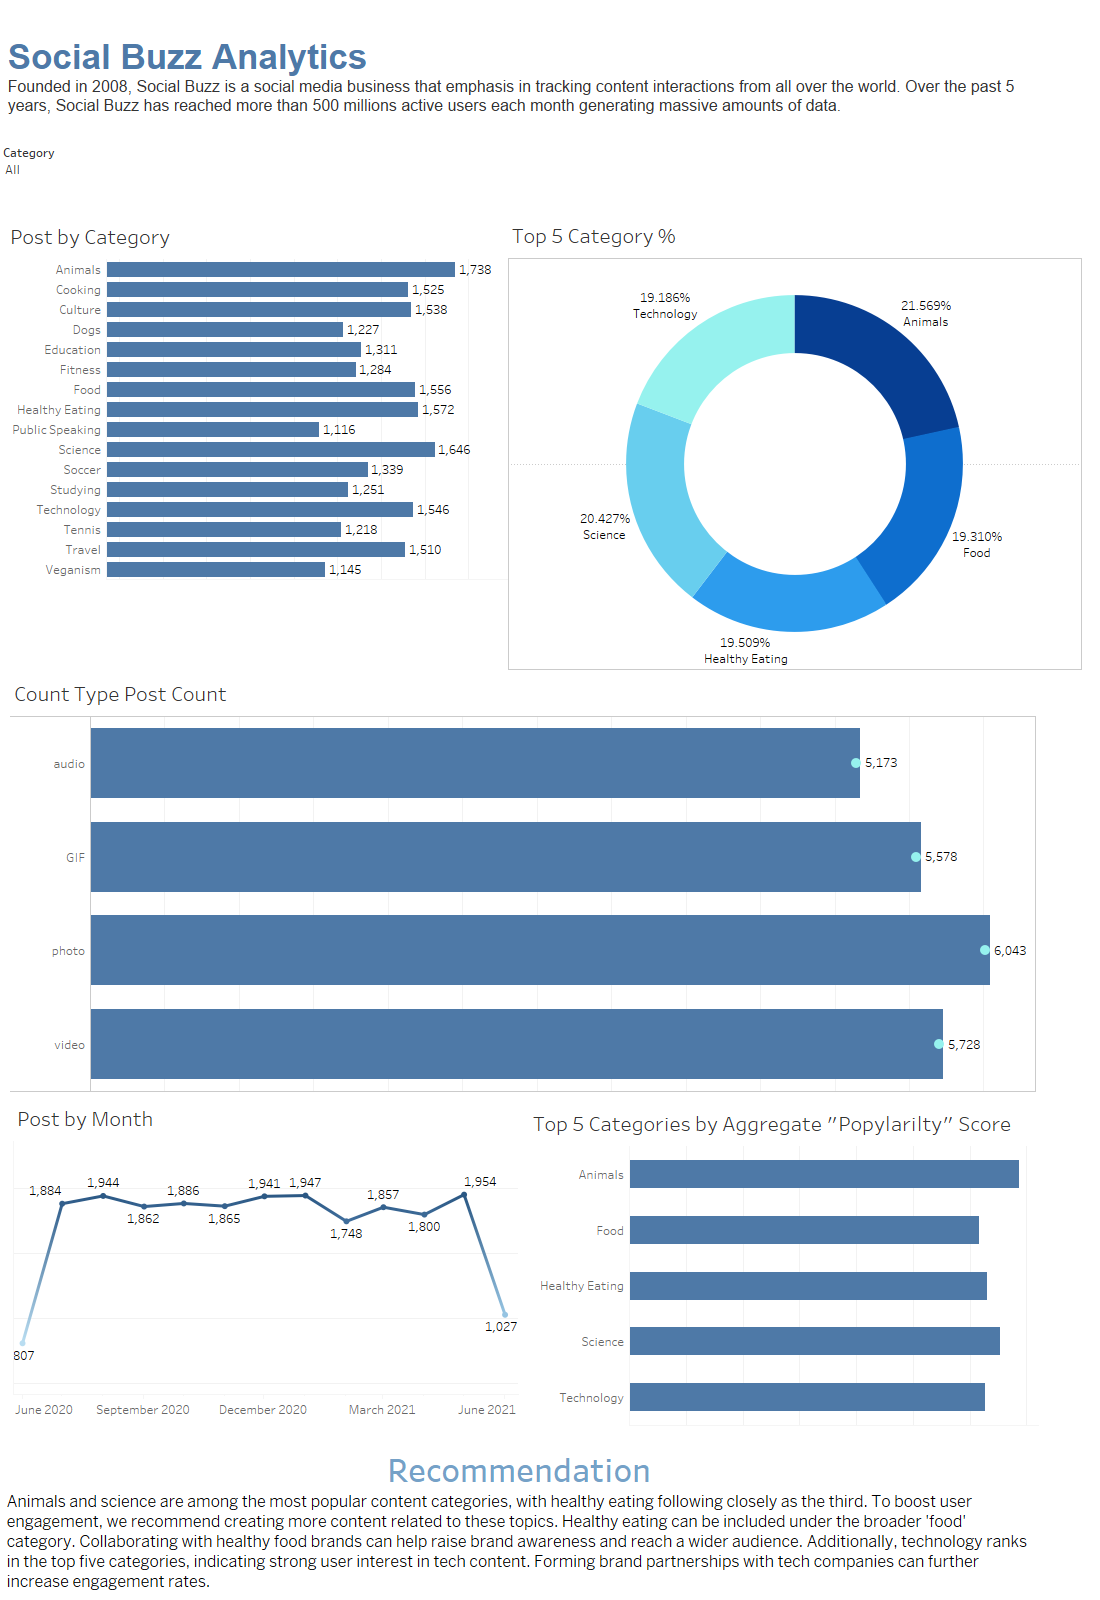

This screenshot's page, from the dashboard's own definition file:
{"tool":"tableau","page":{"name":"Dashboard 2","canvas":[1100,1600],"ordinal":1},"visuals":[{"type":"text","box":[5,17,1028,119]},{"type":"filter","title":"Category Count","param":"[federated.0mg221m0tzkn8z1gdag141mmxswe].[none:Category:nk]","box":[3,143,365,65]},{"type":"worksheet","title":"Top 5 Category %","mark":"Automatic","rows":["Calculation_826692050090352644","Calculation_826692050091368460"],"box":[508,215,574,455]},{"type":"worksheet","title":"Category Count","mark":"Automatic","rows":["Category"],"cols":["Calculation_826692050076528640"],"box":[6,216,502,452]},{"type":"worksheet","title":"Count Type Post Count","mark":"Bar","rows":["Content Type"],"cols":["Calculation_826692050079670273","Calculation_826692050076528640"],"box":[10,673,1026,419]},{"type":"worksheet","title":"Post by Month","mark":"Automatic","rows":["Calculation_826692050080251906"],"cols":["Datetime"],"box":[13,1098,505,326]},{"type":"worksheet","title":"Top 5 Categories by Aggregate ","mark":"Bar","rows":["Category"],"cols":["Score"],"box":[529,1103,509,322]},{"type":"text","box":[4,1445,1030,154]}]}

Visuals, with their boxes in screenshot pixels (x1, y1, x2, y2), scaled from the page's 1100x1600 canvas onto the 1100x1600 screenshot:
text: bbox=[5, 17, 1033, 136]
"Category Count" filter: bbox=[3, 143, 368, 208]
"Top 5 Category %" worksheet: bbox=[508, 215, 1082, 670]
"Category Count" worksheet: bbox=[6, 216, 508, 668]
"Count Type Post Count" worksheet (Bar marks): bbox=[10, 673, 1036, 1092]
"Post by Month" worksheet: bbox=[13, 1098, 518, 1424]
"Top 5 Categories by Aggregate " worksheet (Bar marks): bbox=[529, 1103, 1038, 1425]
text: bbox=[4, 1445, 1034, 1599]
